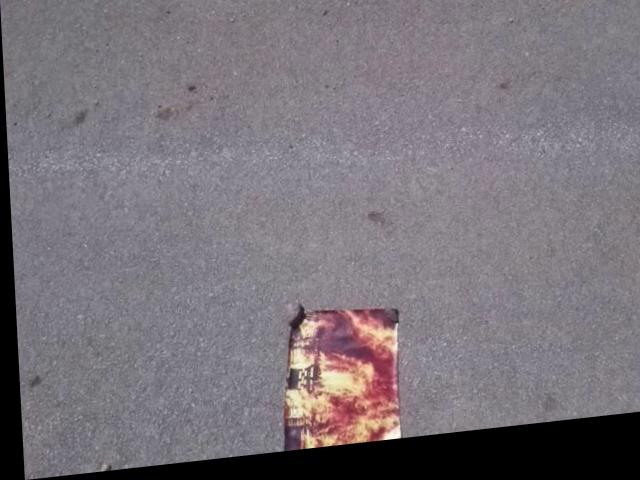fire-poster: (271, 302, 404, 457)
